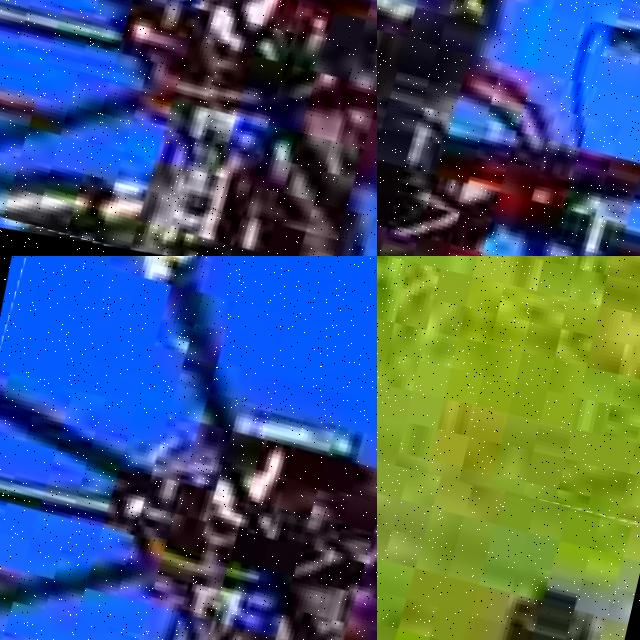drone: (0, 256, 377, 640), (0, 0, 377, 256), (377, 380, 640, 640), (377, 0, 640, 256)
